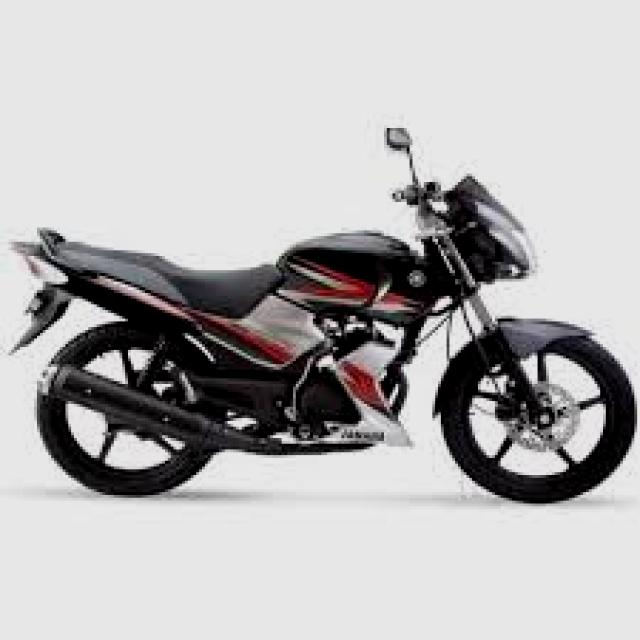MOTORCYCLE: (13, 117, 636, 496)
